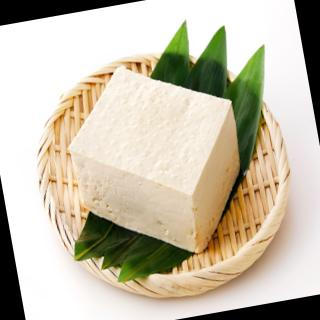Tahu: (46, 42, 280, 276)
